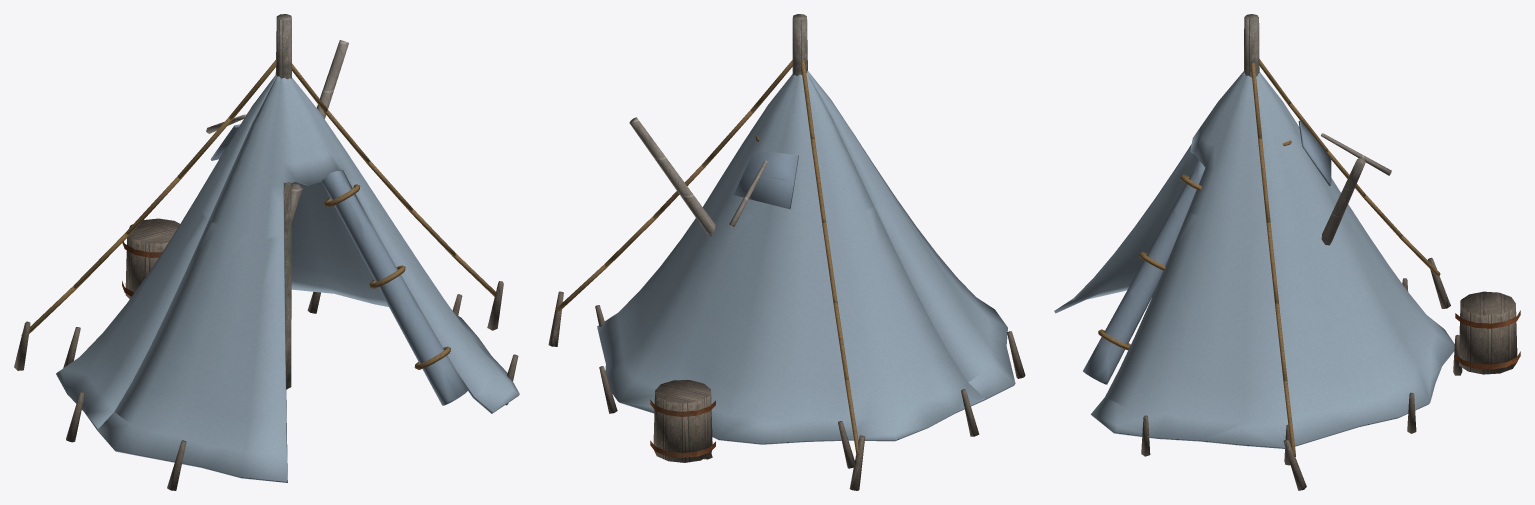
File: tent_c.glb
3 views of the same model, side by side, from view 1: azimuth 30°, elevation 25°; view 2: azimuth 150°, elevation 25°; view 3: azimuth 270°, elevation 25° (orthographic). The views are drawn at different scales.
Parts seen in each view (by area): view 1: tent_c; view 2: tent_c; view 3: tent_c.
Part boxes in pixels (bbox=[...]): tent_c: bbox=[14, 14, 519, 490]; tent_c: bbox=[548, 14, 1025, 490]; tent_c: bbox=[1054, 14, 1520, 490].
Bounding box in the file's own units: 2.98 × 2.49 × 2.89.
Materials: 3 (3 with a texture image).
